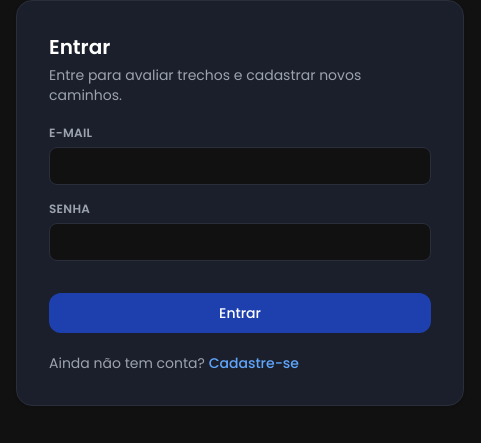
Test: Login › mostra a mensagem do backend quando a senha está errada
Type "ana@exemplo.com" into the field labelled "E-mail" at (240, 166), box [49, 147, 431, 185]
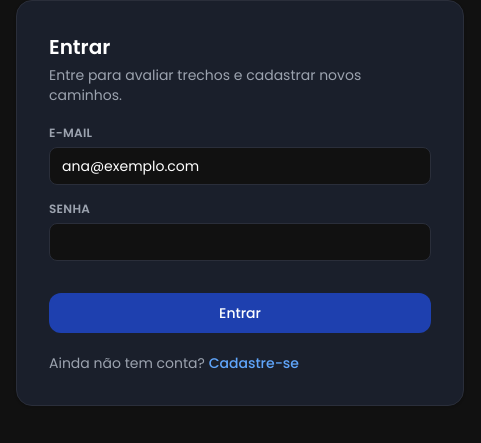
Type "errada-errada" into the password field labelled "Senha" at (240, 242), box [49, 223, 431, 261]
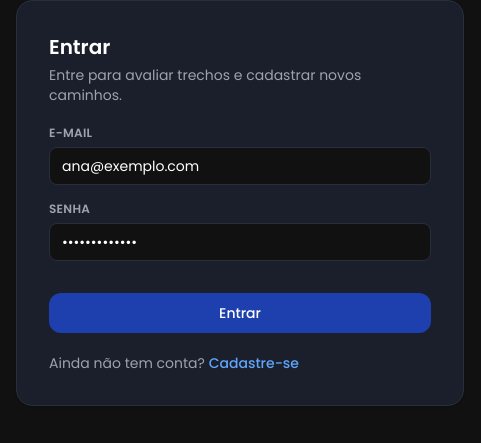
Click the button "Entrar" at (240, 313), box [49, 293, 431, 333]
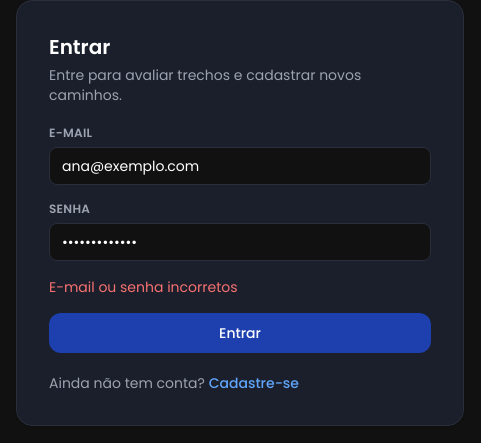
expect the button "Entrar" is enabled: met, box [49, 313, 431, 353]
expect the message reads "E-mail ou senha incorretos": met, box [49, 277, 238, 297]
